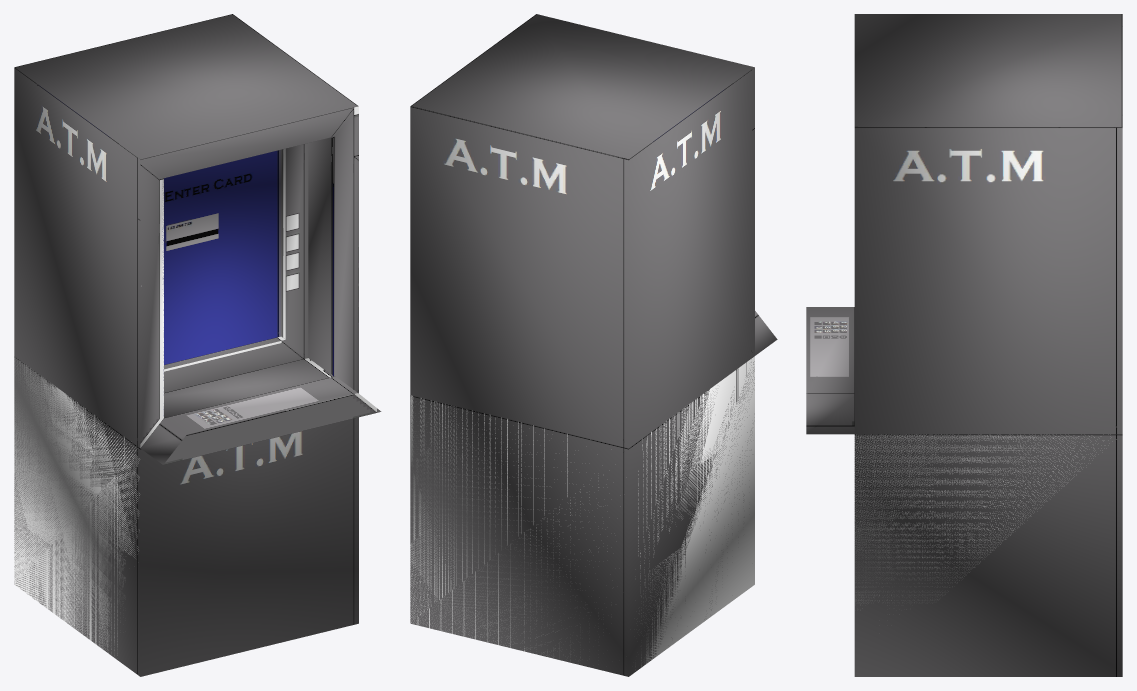
File: atm.fbx
3 views of the same model, side by side, from view 1: azimuth 30°, elevation 25°; view 2: azimuth 150°, elevation 25°; view 3: azimuth 270°, elevation 25° (orthographic). The views are drawn at different scales.
Visible parts, largest first — view 1: node_id4, node_id7; view 2: node_id4, node_id7; view 3: node_id4, node_id7.
Boxes of the visible parts, x1=… form: node_id4: x1=14, y1=14, x2=381, y2=676; node_id7: x1=14, y1=357, x2=139, y2=655; node_id4: x1=410, y1=14, x2=777, y2=676; node_id7: x1=410, y1=356, x2=754, y2=670; node_id4: x1=806, y1=14, x2=1122, y2=676; node_id7: x1=854, y1=434, x2=1094, y2=614.
Size of what is drawn, in the model's own units: 0.2261 by 0.512 by 0.2669.
2 materials, 1 textured.
